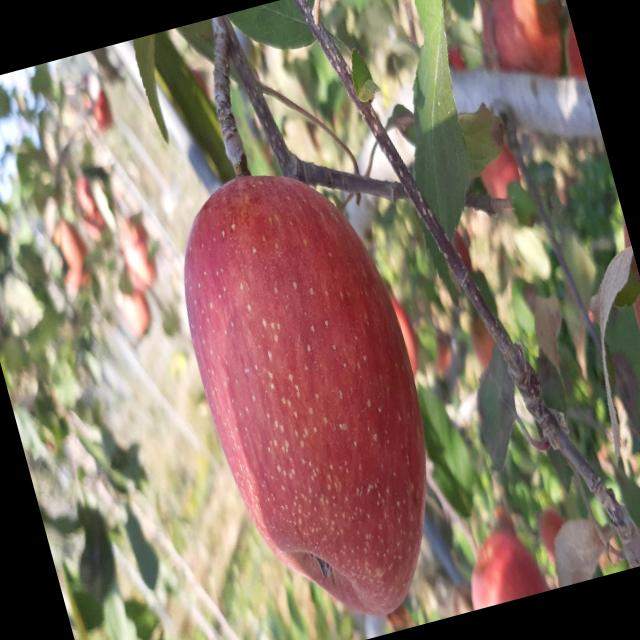fresh: (148, 139, 479, 640)
